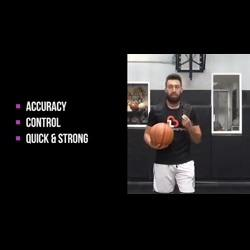BasketBall: (125, 51, 249, 195), (146, 121, 174, 149)
Player: (142, 72, 203, 194)
